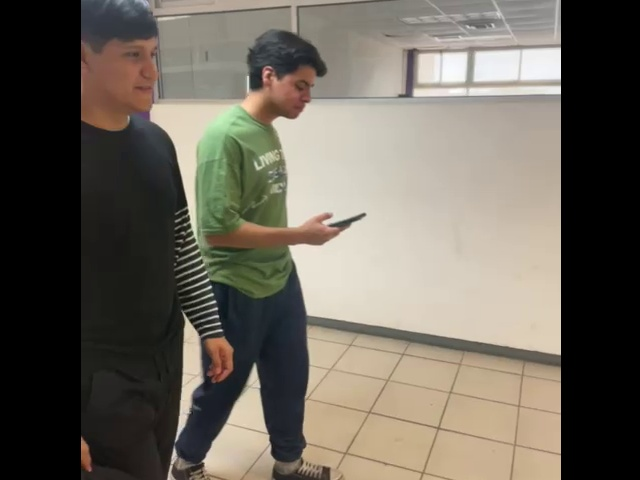mixto2: (327, 205, 375, 231)
